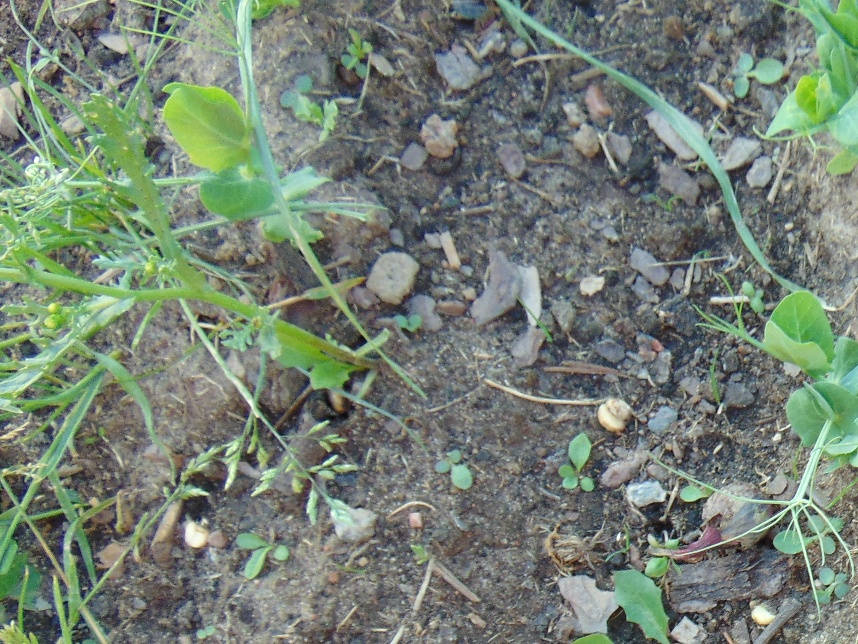crop: (672, 287, 858, 554), (130, 5, 271, 226), (164, 73, 327, 237), (758, 1, 858, 172)
weed: (1, 166, 195, 644), (1, 244, 408, 434), (1, 1, 161, 257), (530, 572, 679, 644), (234, 524, 291, 579), (771, 515, 845, 557), (559, 431, 601, 491), (435, 443, 475, 492), (278, 70, 313, 118), (337, 32, 372, 80), (816, 566, 846, 602)
